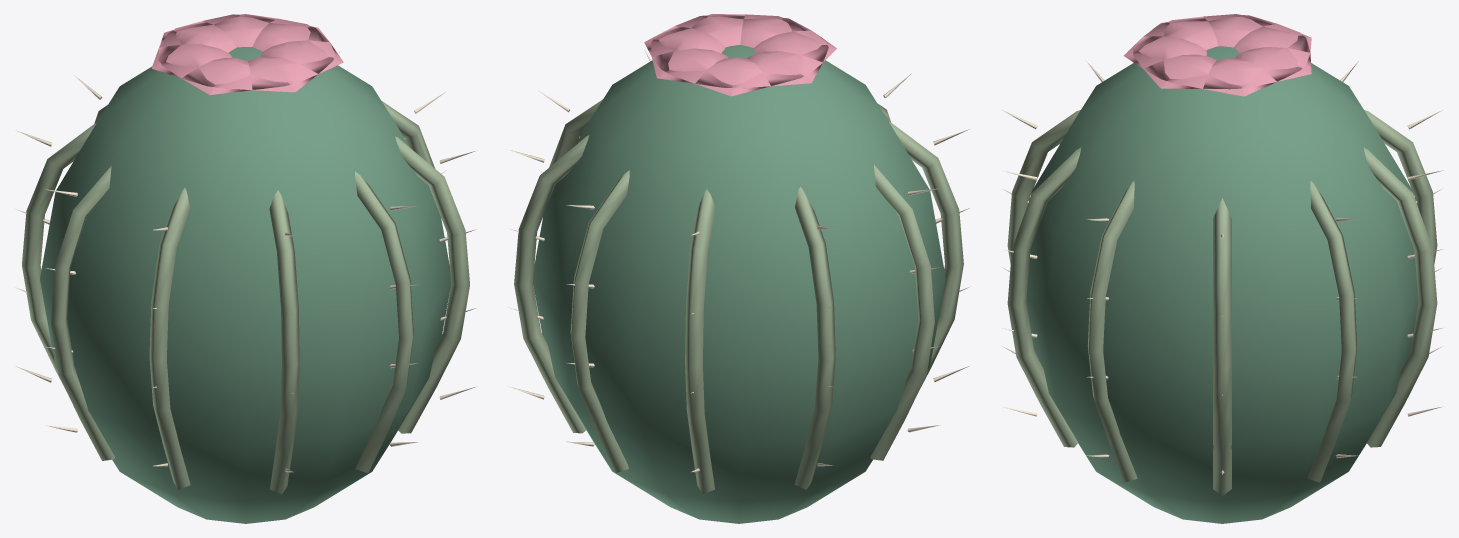
File: barrel-cactus.glb
The picture shows the model from 3 angles, left to right: view 1: azimuth 30°, elevation 25°; view 2: azimuth 150°, elevation 25°; view 3: azimuth 270°, elevation 25°; orthographic projection.
Visible parts, largest first — view 1: Vesper / barrel-cactus; view 2: Vesper / barrel-cactus; view 3: Vesper / barrel-cactus.
Boxes of the visible parts, x1,y1,x2,y2 form: Vesper / barrel-cactus: (15,14,475,523); Vesper / barrel-cactus: (508,14,970,523); Vesper / barrel-cactus: (1001,14,1443,523).
Size of the model in its own units: 1.72 by 1.88 by 1.64.
